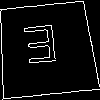E: (21, 24, 60, 74)
